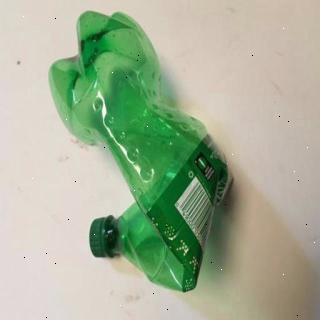Plastic-bottle: (49, 10, 235, 294)
